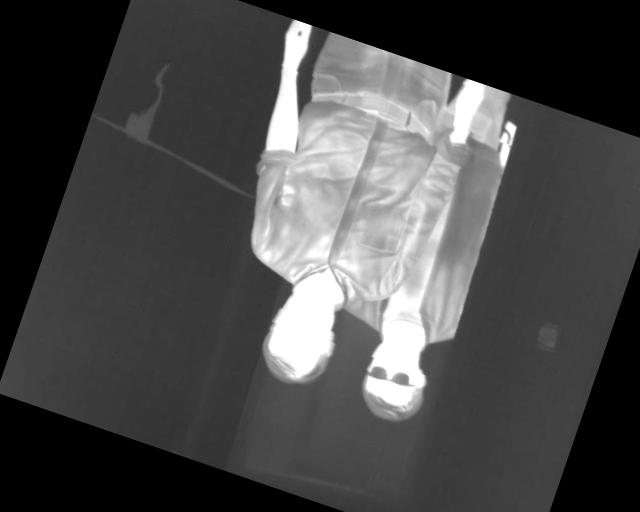face: (250, 276, 351, 394), (350, 329, 438, 429)
